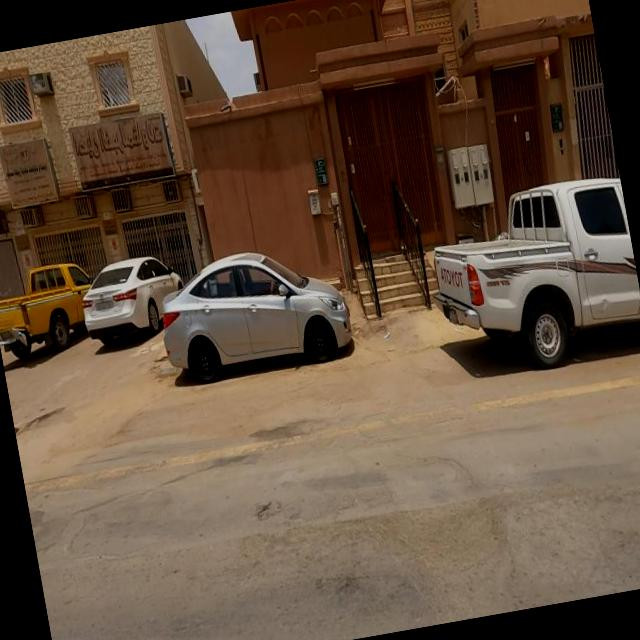debris: (12, 59, 226, 237), (0, 99, 95, 248)
